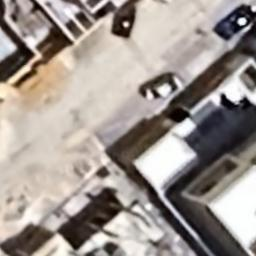sedan: (212, 5, 256, 42), (141, 72, 184, 104), (109, 2, 144, 39)
